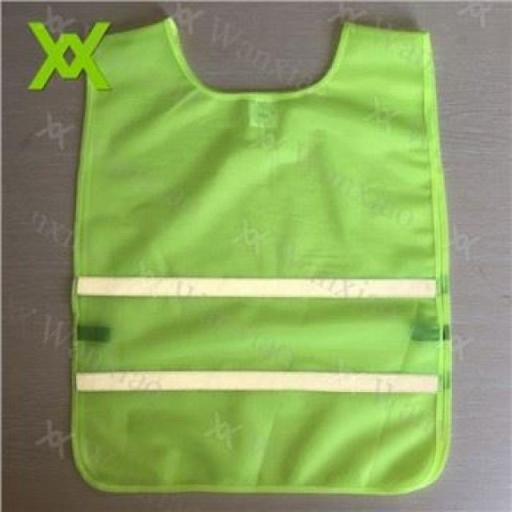vest: (38, 4, 488, 512)
